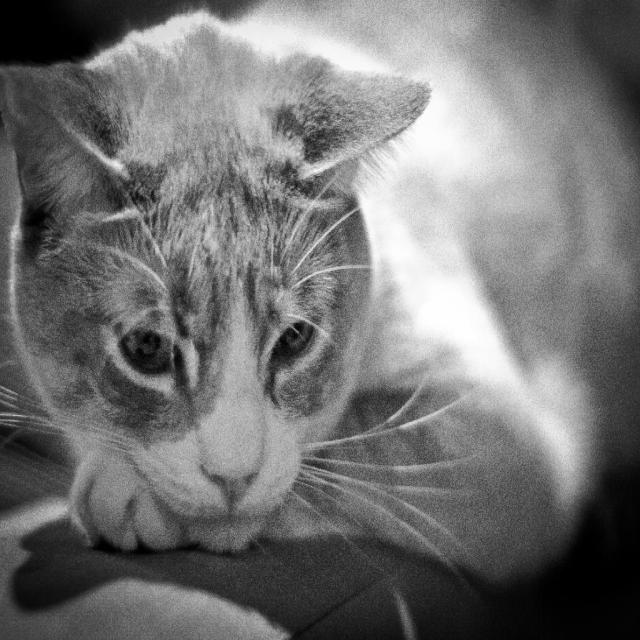Cat: (0, 0, 639, 590)
